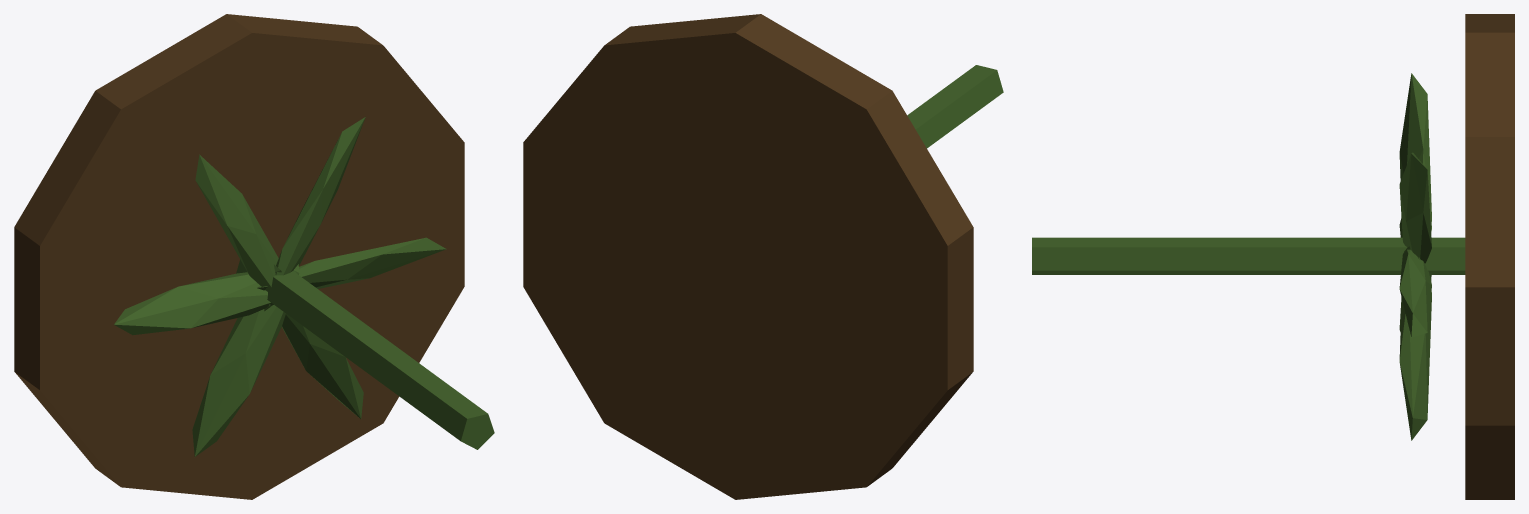
The model's file is 2_growing.obj.
The picture shows the model from 3 angles, left to right: view 1: azimuth 30°, elevation 25°; view 2: azimuth 150°, elevation 25°; view 3: azimuth 270°, elevation 25°; orthographic projection. The views are drawn at different scales.
Visible parts, largest first — view 1: marigold_2_growing; view 2: marigold_2_growing; view 3: marigold_2_growing.
Boxes of the visible parts, <box> form: marigold_2_growing: <box>14,14,494,499</box>; marigold_2_growing: <box>523,14,1003,499</box>; marigold_2_growing: <box>1032,14,1514,499</box>.
Bounding box in the file's own units: 0.1902 × 0.2 × 0.195.
